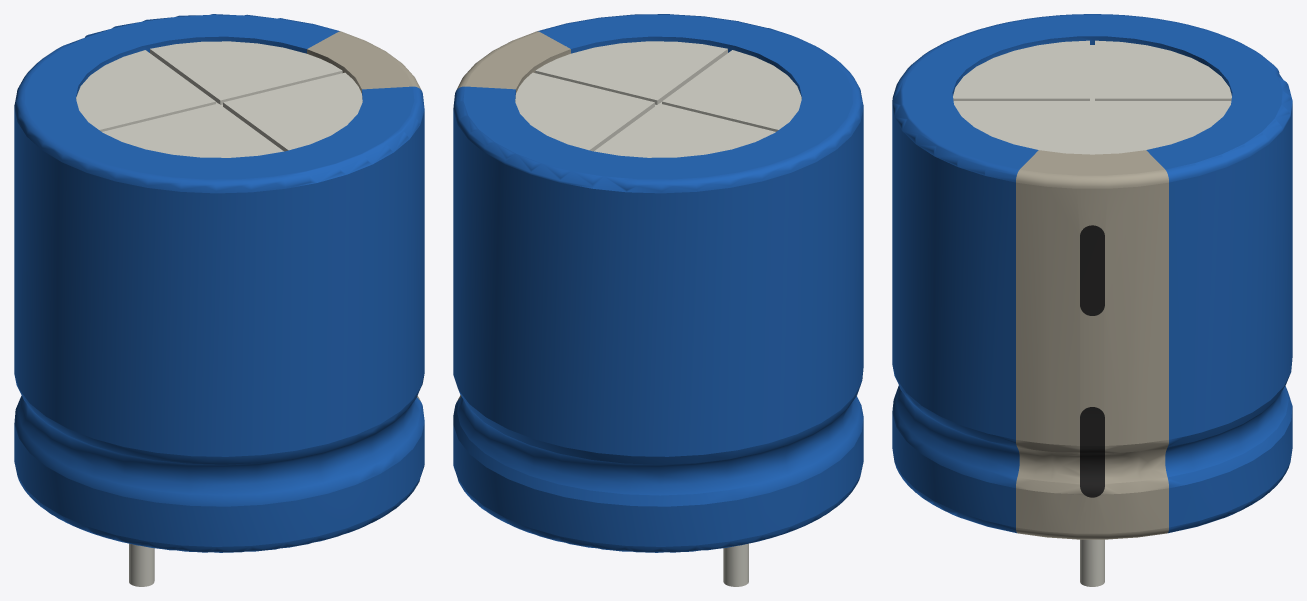
Rendered from kc-cp_radial_d8.0mm_p3.50mm.glb.
3 views of the same model, side by side, from view 1: azimuth 30°, elevation 25°; view 2: azimuth 150°, elevation 25°; view 3: azimuth 270°, elevation 25° (orthographic). The views are drawn at different scales.
Visible parts, largest first — view 1: 0_0.16666666666666666_0.5_0, 0.6666666666666666_0.6666666666666666_0.5833333333333334_0.8, 0.4166666666666667_0.4166666666666667_0.3333333333333333_0; view 2: 0_0.16666666666666666_0.5_0, 0.6666666666666666_0.6666666666666666_0.5833333333333334_0.8, 0.4166666666666667_0.4166666666666667_0.3333333333333333_0; view 3: 0_0.16666666666666666_0.5_0, 0.4166666666666667_0.4166666666666667_0.3333333333333333_0, 0.6666666666666666_0.6666666666666666_0.5833333333333334_0.8, 0_0_0_0.
Boxes of the visible parts, x1,y1,x2,y2 form: 0_0.16666666666666666_0.5_0: (14,14,424,552); 0.6666666666666666_0.6666666666666666_0.5833333333333334_0.8: (76,41,362,586); 0.4166666666666667_0.4166666666666667_0.3333333333333333_0: (307,31,421,400); 0_0.16666666666666666_0.5_0: (453,14,863,552); 0.6666666666666666_0.6666666666666666_0.5833333333333334_0.8: (515,41,801,586); 0.4166666666666667_0.4166666666666667_0.3333333333333333_0: (456,31,570,400); 0_0.16666666666666666_0.5_0: (892,14,1292,533); 0.4166666666666667_0.4166666666666667_0.3333333333333333_0: (1016,150,1168,539); 0.6666666666666666_0.6666666666666666_0.5833333333333334_0.8: (953,40,1231,586); 0_0_0_0: (1080,225,1104,497).
Bounding box in the file's own units: 0.8 × 1 × 0.7998.
